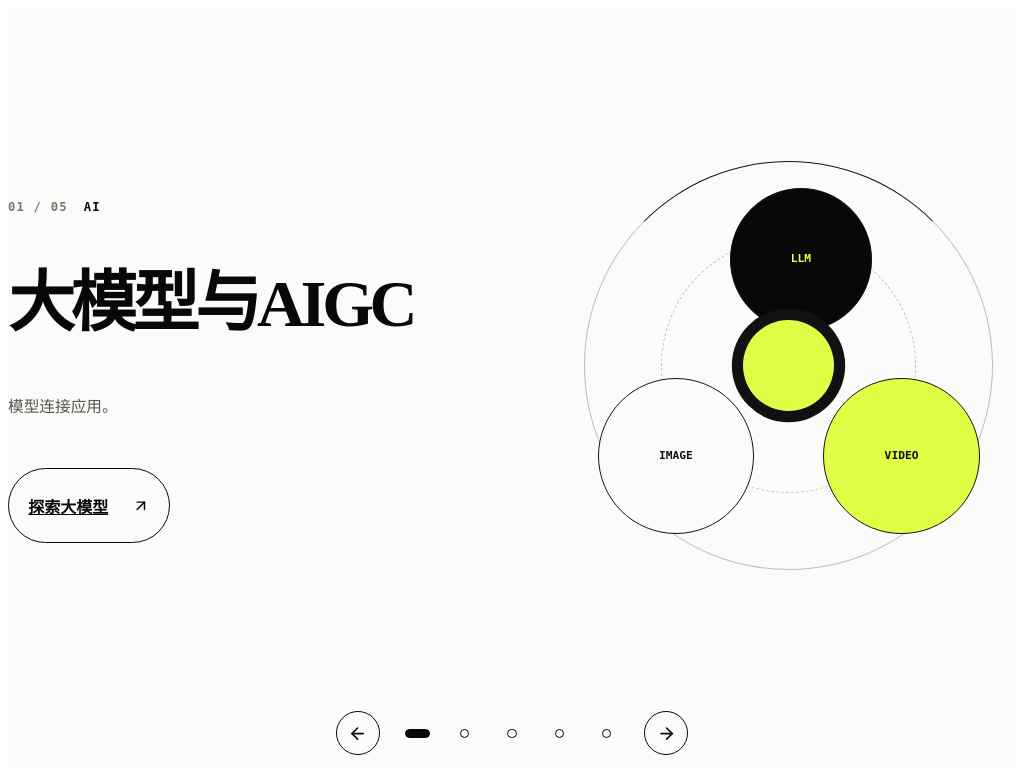
Test case: home hero carousel › selects a state with a dot and exposes its current state
The image size is (1024, 768).
What coordinates should you click on to do the following:
click the button named "转到 XINCHUANG 业务"
I would click on:
 (512, 733)
Its box is [490,711,534,755].
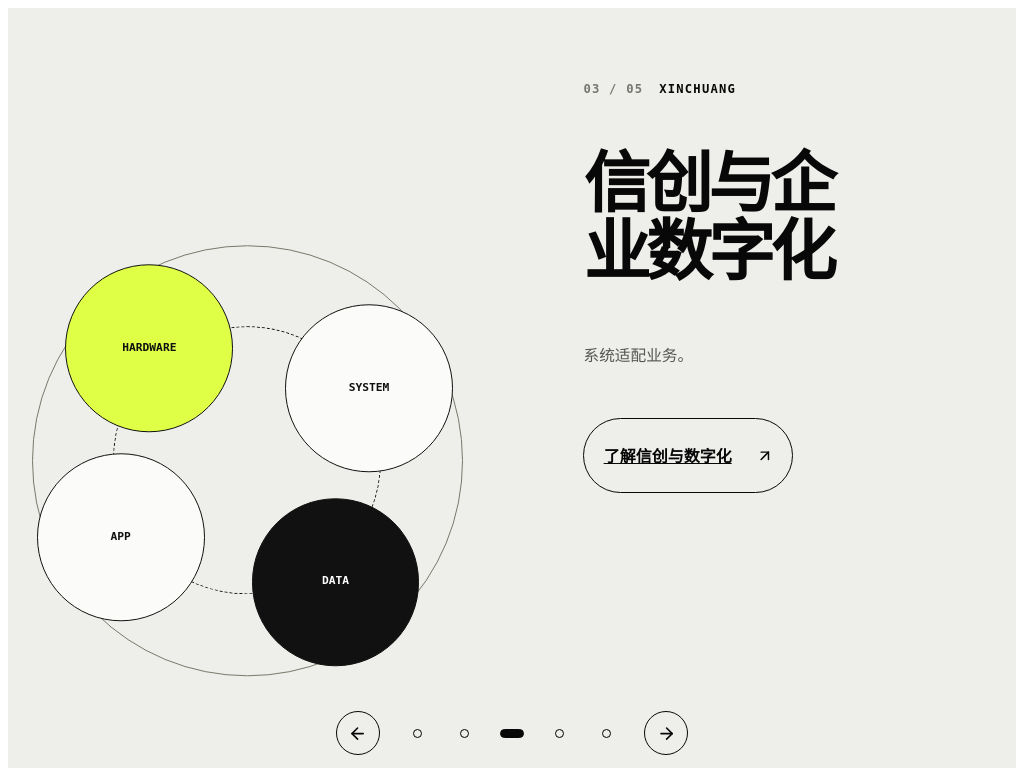
Check: the heading reads "信创与企业数字化", box [584,148,832,289]
